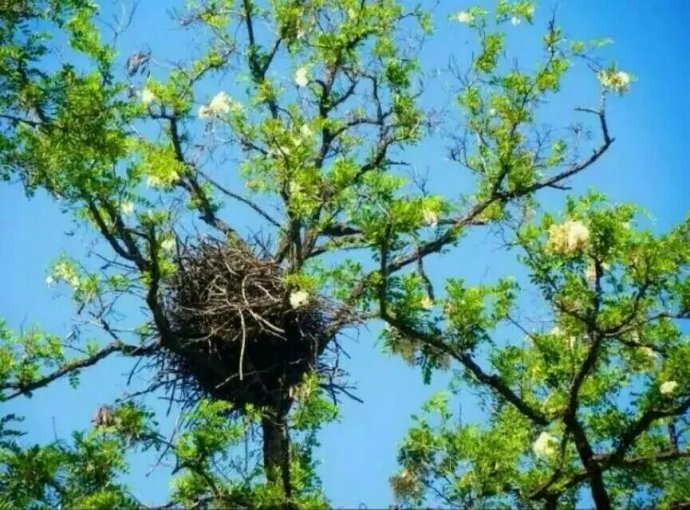bird-nest: (159, 235, 333, 405)
